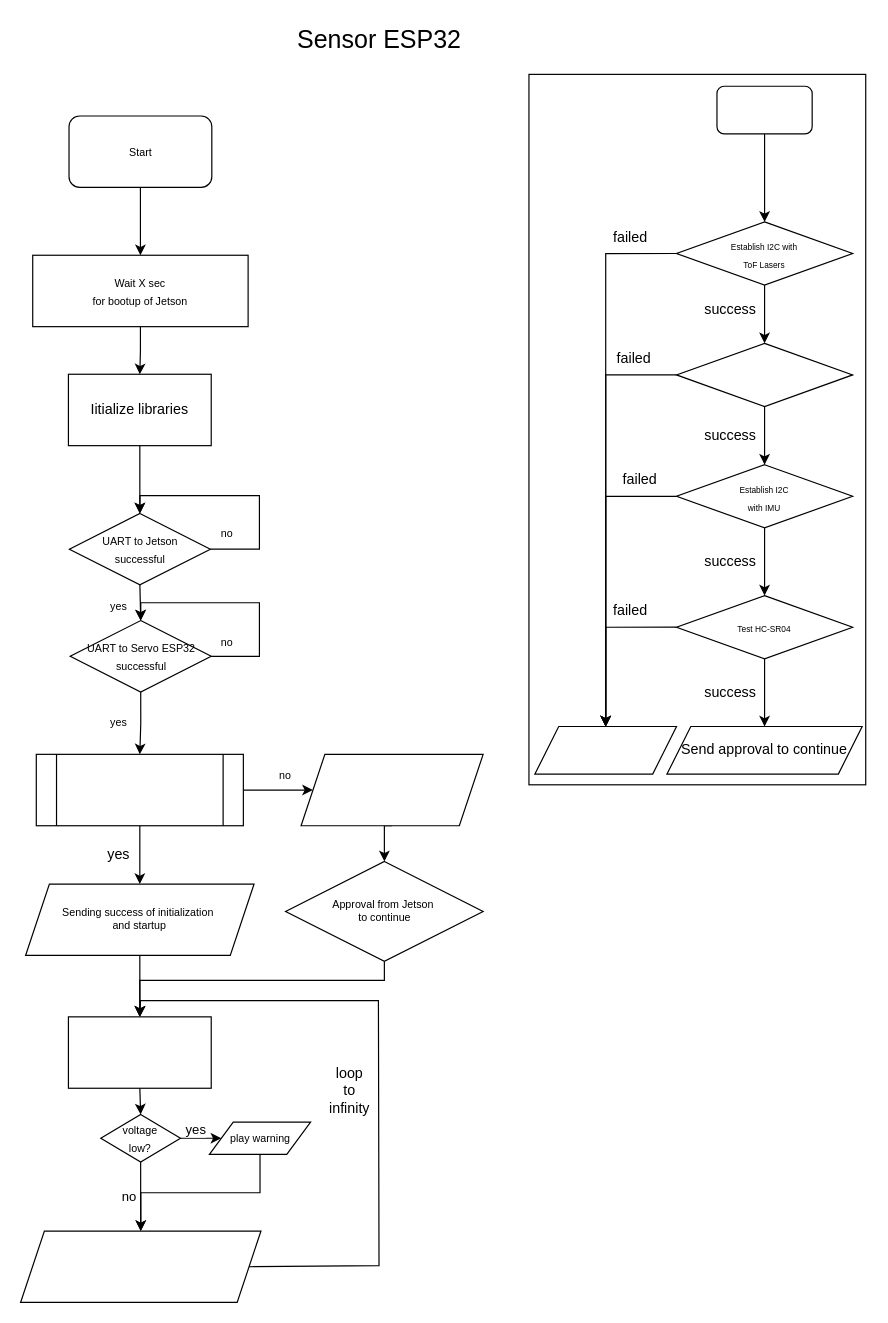
This 888x1323 diagram has some shape labels left out. The centre of each missing label's shape, as x and y in pixels:
Establish I2C with INA226: the point at 764,374
Initialization and checking of sensors: the point at 139,789
Initialization of Sensors: the point at 764,109
Reading Sensor Values: the point at 139,1052
Seding DataStream to Servo ESP via UART: the point at 140,1266
Send Errorcode with info: the point at 605,749
Sending error code to Jetson: the point at 391,789
